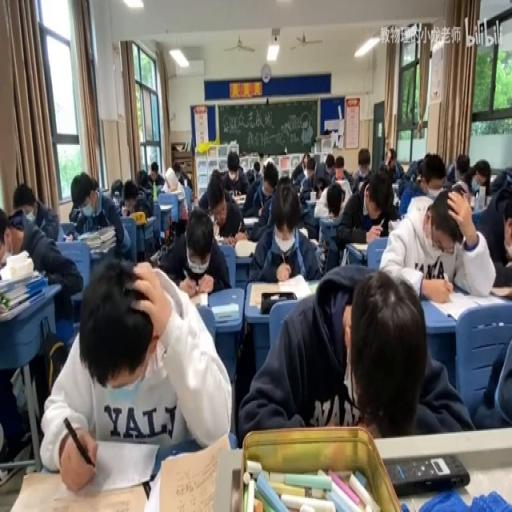calculator: (6, 466, 152, 512), (424, 286, 490, 321), (248, 274, 313, 308), (0, 292, 39, 320), (0, 266, 39, 290), (210, 300, 238, 322), (318, 215, 340, 243), (234, 238, 256, 256), (90, 244, 115, 258), (189, 289, 208, 307), (488, 283, 511, 297), (349, 240, 368, 250), (242, 214, 258, 224), (298, 226, 308, 239), (232, 193, 246, 202), (159, 203, 172, 212), (304, 196, 317, 205), (390, 180, 398, 194), (308, 282, 318, 292), (308, 238, 318, 246), (144, 216, 154, 223)
paper: (42, 253, 228, 488), (238, 266, 470, 442), (381, 186, 496, 299), (157, 202, 228, 292), (68, 170, 130, 260), (331, 165, 392, 253), (469, 323, 510, 427), (9, 182, 61, 243), (245, 162, 281, 240), (38, 328, 66, 397), (415, 152, 448, 198), (298, 154, 328, 199), (219, 150, 248, 196), (450, 158, 482, 199), (403, 194, 433, 230), (350, 147, 373, 189), (384, 151, 403, 183), (172, 160, 191, 190), (488, 168, 510, 192), (146, 162, 166, 188), (326, 185, 342, 216), (403, 158, 420, 180), (134, 168, 149, 190), (259, 152, 274, 174), (110, 179, 124, 202), (291, 164, 304, 186), (124, 185, 138, 205), (68, 205, 80, 223), (445, 161, 455, 182), (251, 159, 261, 178), (342, 168, 353, 183), (325, 154, 334, 172), (334, 155, 344, 169), (306, 162, 314, 176), (316, 182, 323, 193), (212, 168, 218, 176)
person: (386, 452, 470, 494)
